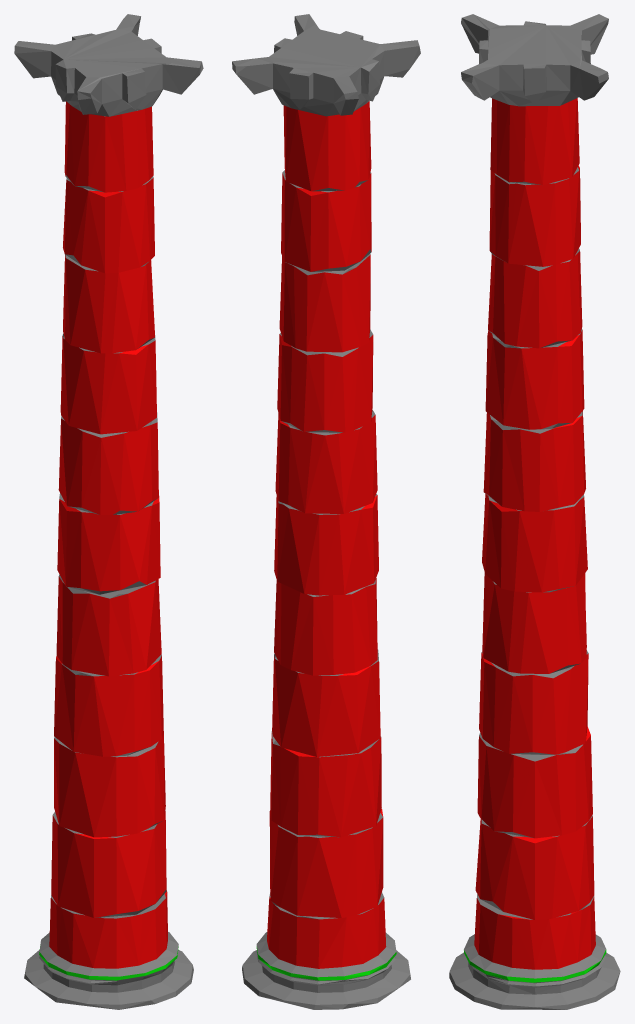
Rendered from PillarCylinderTall01.fbx.
3 views of the same model, side by side, from view 1: azimuth 30°, elevation 25°; view 2: azimuth 150°, elevation 25°; view 3: azimuth 270°, elevation 25° (orthographic).
Visible parts, largest first — view 1: PillarCylinderTall01; view 2: PillarCylinderTall01; view 3: PillarCylinderTall01.
Part boxes in pixels (bbox=[...]): PillarCylinderTall01: bbox=[14, 14, 203, 1009]; PillarCylinderTall01: bbox=[232, 14, 420, 1009]; PillarCylinderTall01: bbox=[449, 14, 620, 1009].
Size of the model in its own units: 191 by 1150 by 192.
